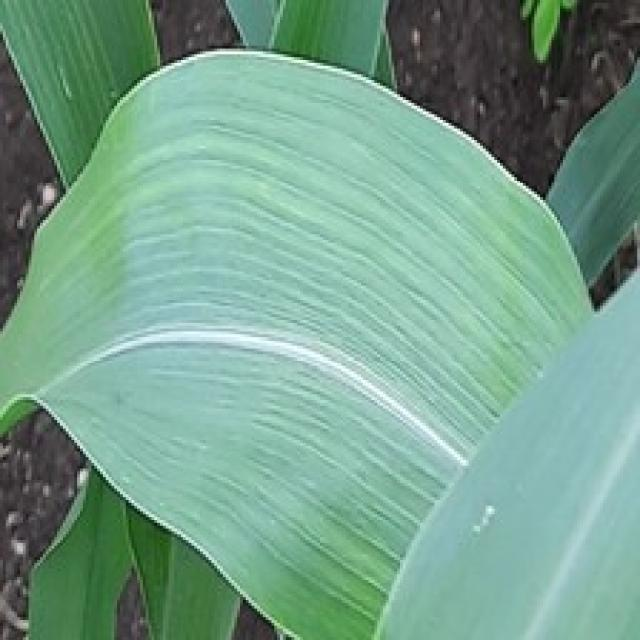Corn: (0, 0, 637, 637), (20, 460, 243, 637), (0, 0, 160, 189), (540, 0, 637, 289), (206, 0, 400, 89)
